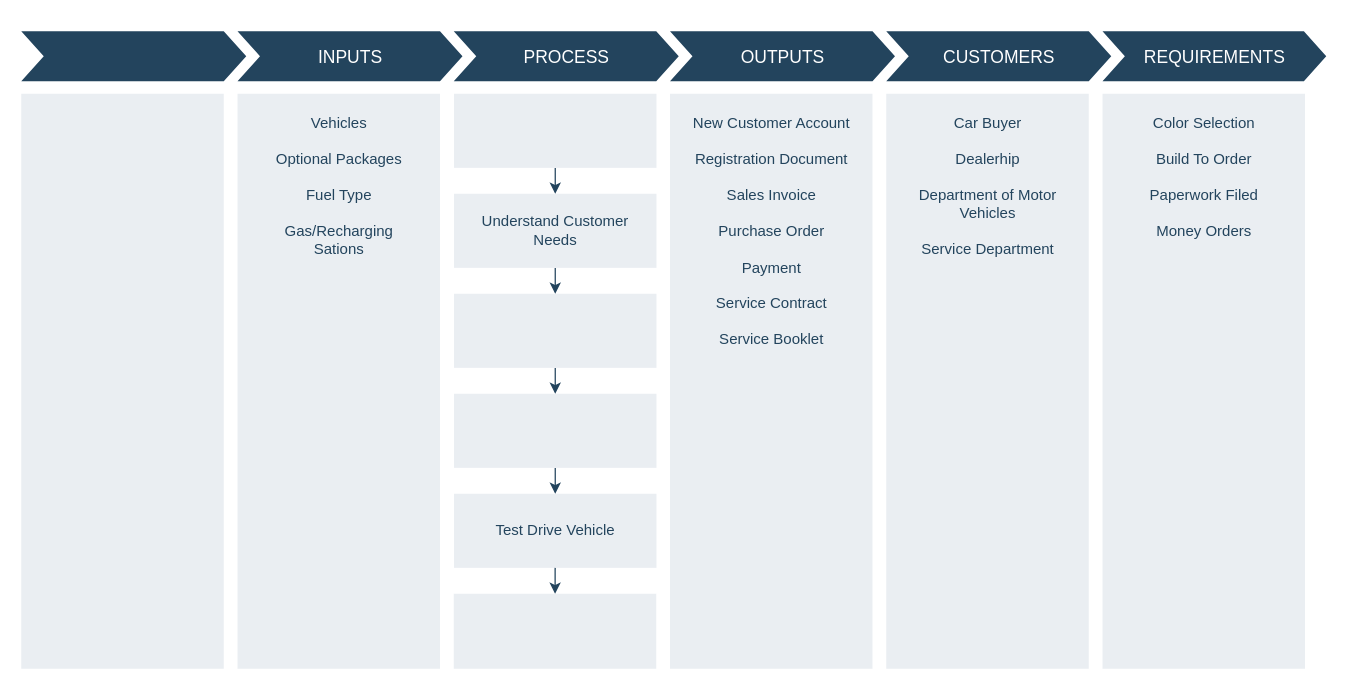
This 1348x690 diagram has some shape labels left out. The box of each missing label's shape, as (x1, y1, x2, y2) in pixels:
Manufacturer Car Dealer Gas/Recharging Station Car Wash: (21, 93, 223, 668)
Meet Customer: (453, 93, 656, 167)
Present Optional Packages for Vehicle: (453, 393, 656, 467)
Present Vehicles Mathing Clients Needs: (453, 293, 656, 367)
Sign Paperwork and Give Keys: (453, 593, 656, 668)
SUPPLIER: (21, 31, 246, 81)
